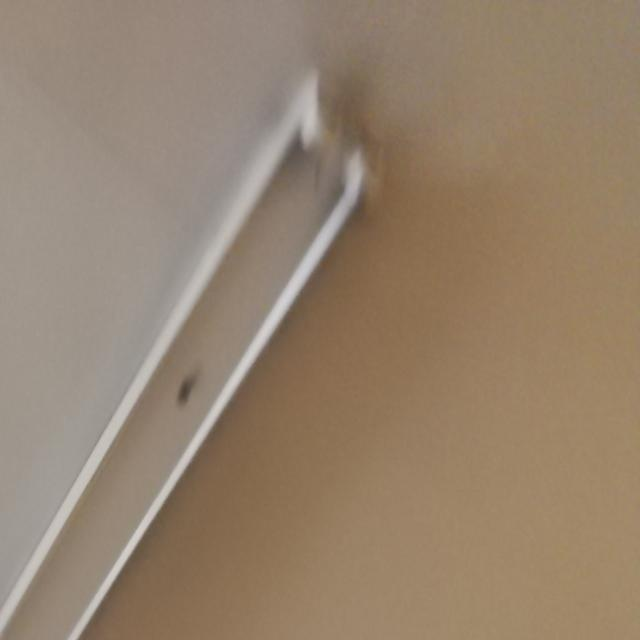fluorescent tube: (0, 49, 418, 640)
